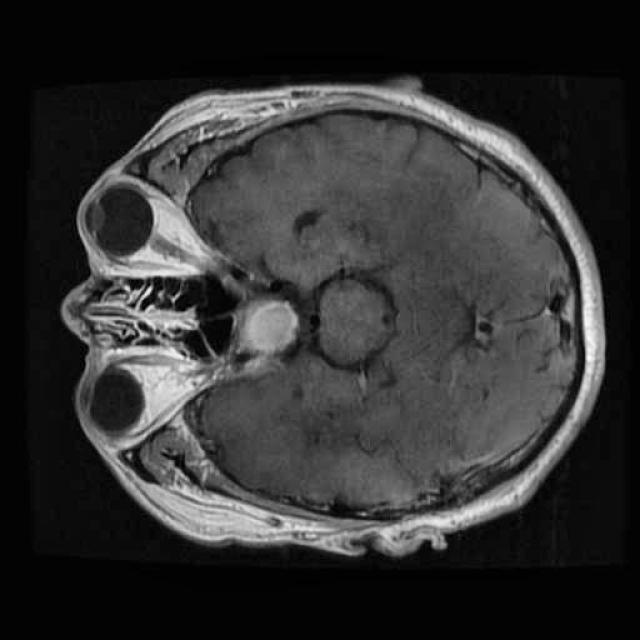Tumor: (230, 291, 308, 366)
